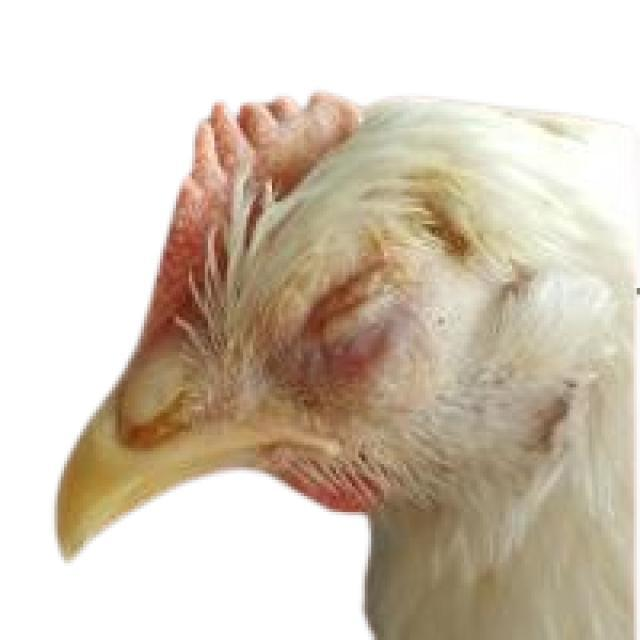Coryza: (278, 259, 452, 412)
